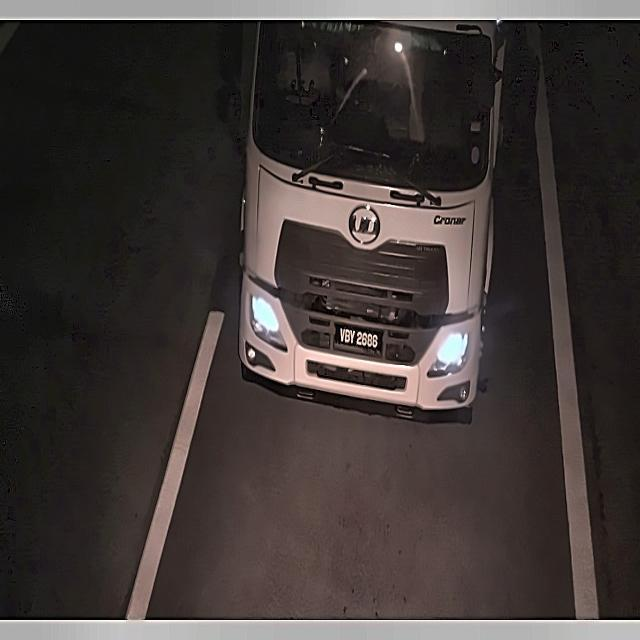car: (328, 319, 390, 361)
